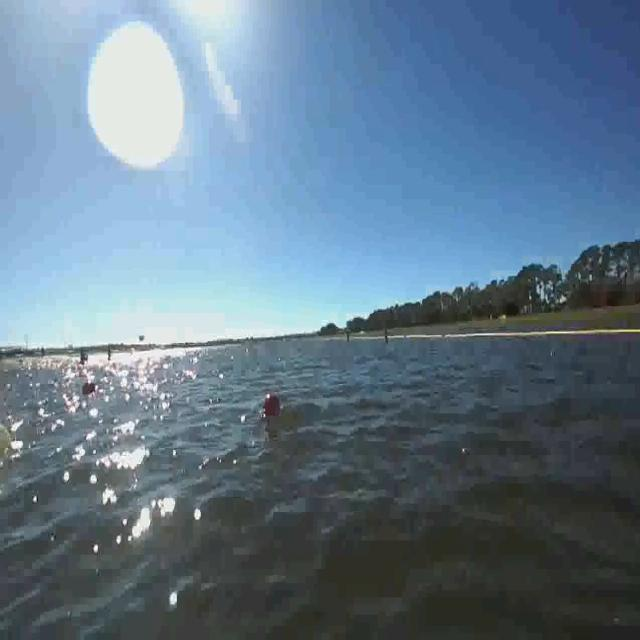red-buoy: (265, 392, 281, 417)
